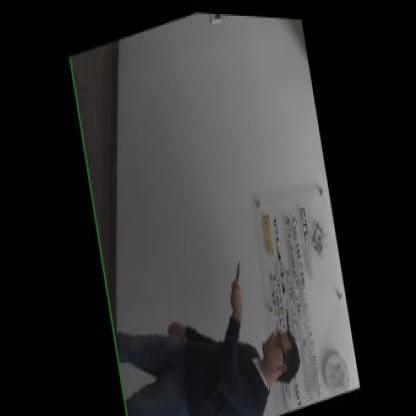knife: (224, 249, 245, 292)
